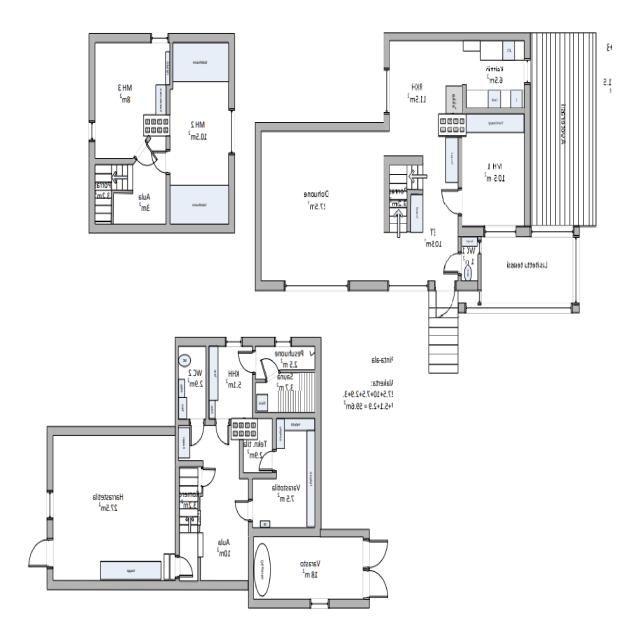door: (434, 281, 456, 322), (134, 140, 158, 174), (362, 570, 388, 600), (28, 538, 54, 566), (362, 542, 388, 570), (441, 189, 462, 215), (261, 355, 279, 382), (150, 151, 170, 174), (237, 352, 255, 373), (190, 419, 204, 446), (234, 500, 252, 520), (216, 419, 229, 446), (259, 451, 276, 471), (174, 558, 191, 578), (444, 254, 461, 274), (200, 469, 215, 486)
